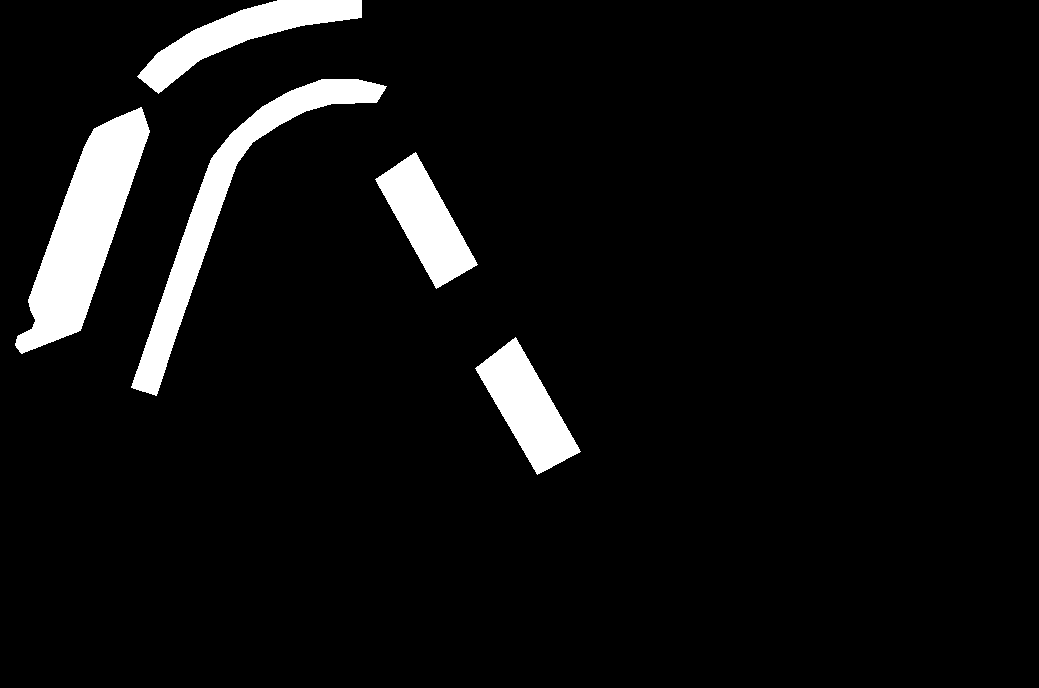parkingspot: (131, 79, 386, 395), (15, 107, 149, 353), (137, 0, 361, 93), (475, 337, 580, 474), (375, 152, 477, 288)
